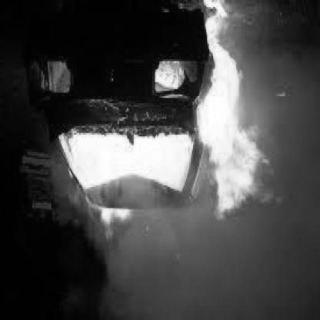Fire: (35, 56, 291, 268), (196, 3, 240, 53)
